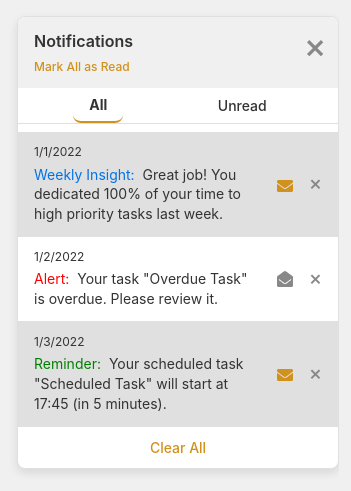
Test: NotificationsDropdown Component - INTEGRATION TESTS › switching between tabs updates the displayed notifications correctly with text assertions
The image size is (351, 491).
Expected: the number of list items is 3, [18,132,338,237]; [18,237,338,322]; [18,322,338,426]
Expected: the list item that starts with "Weekly Insight:" shows "Weekly Insight: Great job! You dedicated 100% of your time to high priority tasks last week.", [18,132,338,237]
What coordinates should you click on to do the following:
click the button "Unread"
I would click on:
 (242, 106)
Its box is [202,88,283,123].
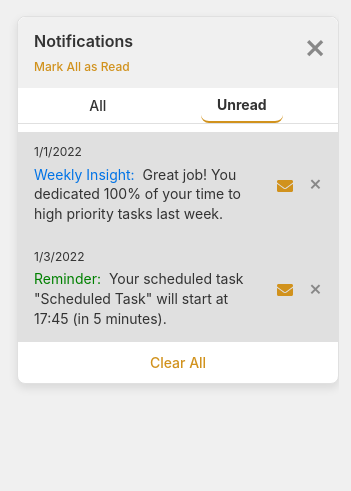
Expected: the list item that starts with "Weekly Insight:" shows "Weekly Insight: Great job! You dedicated 100% of your time to high priority tasks last week.", [18,132,338,237]
Expected: the number of list items is 2, [18,132,338,237]; [18,237,338,341]
What coordinates should you click on to do the following:
click the button "All"
I would click on:
 (98, 106)
Its box is [73,88,122,123].
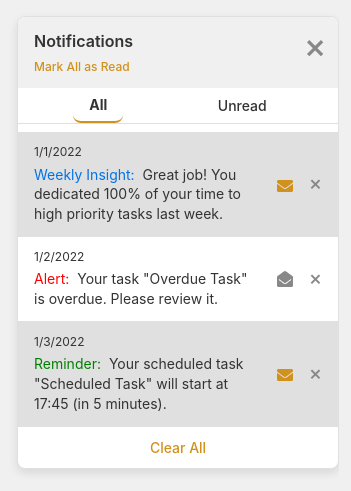
Expected: the number of list items is 3, [18,132,338,237]; [18,237,338,322]; [18,322,338,426]
